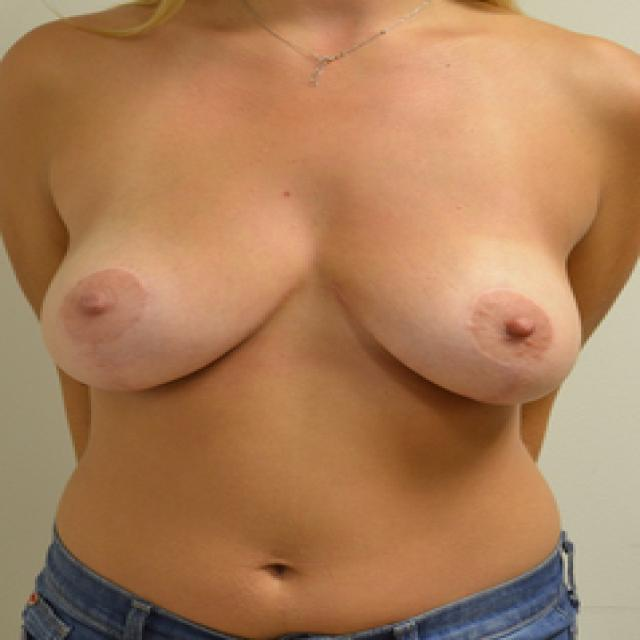Seno ileso: (317, 196, 588, 424), (34, 196, 310, 412)
